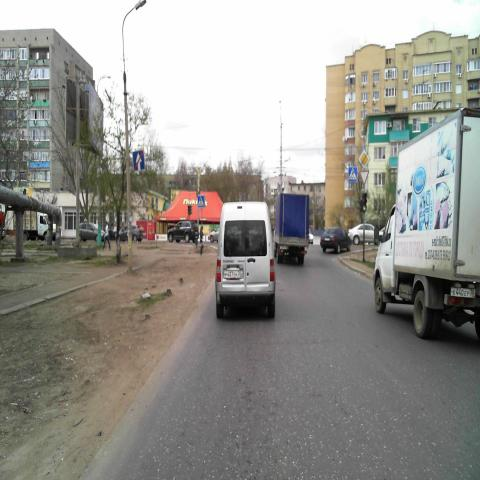2_2: (359, 149, 370, 169)
2_4: (360, 170, 368, 184)
5_19_1: (348, 166, 358, 182), (198, 194, 204, 208)
5_6: (133, 150, 145, 171)
